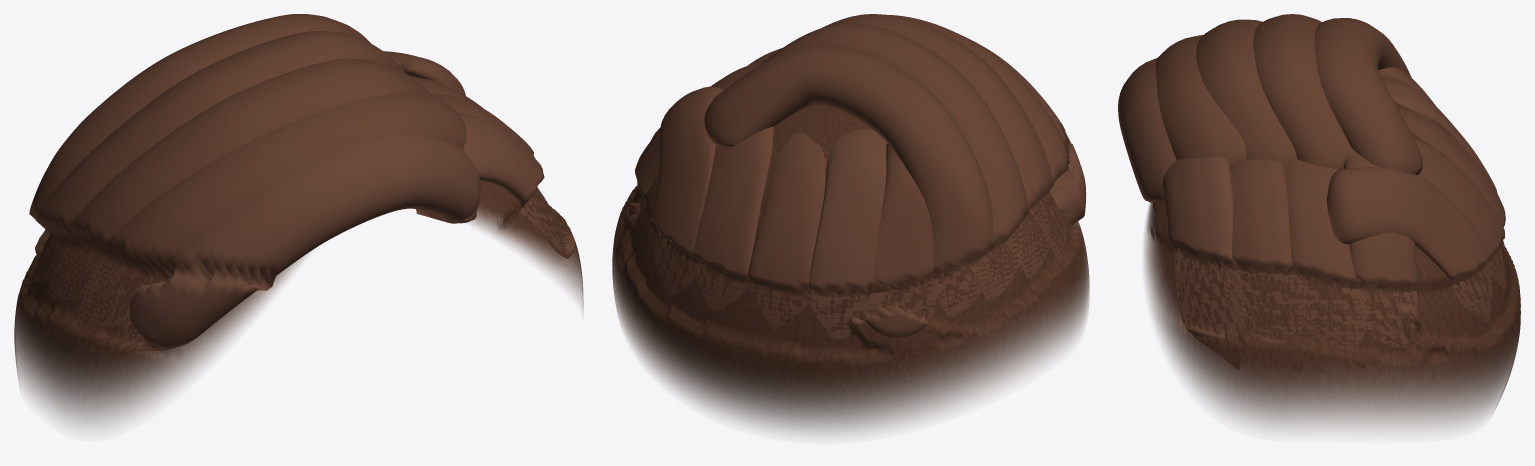
File: Masculine-taper-headband252-hair.glb
The picture shows the model from 3 angles, left to right: view 1: azimuth 30°, elevation 25°; view 2: azimuth 150°, elevation 25°; view 3: azimuth 270°, elevation 25°; orthographic projection. The views are drawn at different scales.
Parts seen in each view (by area): view 1: 226 hair / Hair252 / sculpted locks.001, 226 hair / Hair252 / gentle tonal variation.001, 226 hair / Hair252 / restored153 fade coverage.001; view 2: 226 hair / Hair252 / sculpted locks.001, 226 hair / Hair252 / restored153 fade coverage.001, 226 hair / Hair252 / gentle tonal variation.001; view 3: 226 hair / Hair252 / sculpted locks.001, 226 hair / Hair252 / restored153 fade coverage.001, 226 hair / Hair252 / gentle tonal variation.001.
Part boxes in pixels (box(x1,y1,x2,y2)): 226 hair / Hair252 / sculpted locks.001: box(29, 14, 556, 327); 226 hair / Hair252 / gentle tonal variation.001: box(121, 113, 574, 350); 226 hair / Hair252 / restored153 fade coverage.001: box(14, 180, 583, 426); 226 hair / Hair252 / sculpted locks.001: box(626, 14, 1078, 338); 226 hair / Hair252 / restored153 fade coverage.001: box(612, 105, 1089, 434); 226 hair / Hair252 / gentle tonal variation.001: box(747, 36, 1086, 339); 226 hair / Hair252 / sculpted locks.001: box(1155, 14, 1507, 350); 226 hair / Hair252 / restored153 fade coverage.001: box(1144, 101, 1520, 429); 226 hair / Hair252 / gentle tonal variation.001: box(1118, 58, 1497, 338).
Size of the model in its own units: 0.976 by 0.7527 by 0.7562.
Materials: 3 (1 with a texture image).
